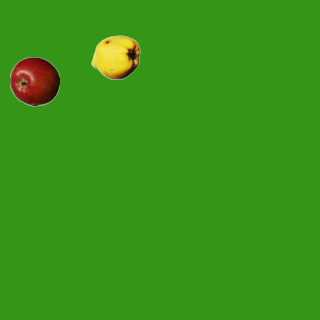Apple Braeburn: (9, 56, 59, 106)
Quince: (90, 32, 140, 82)
